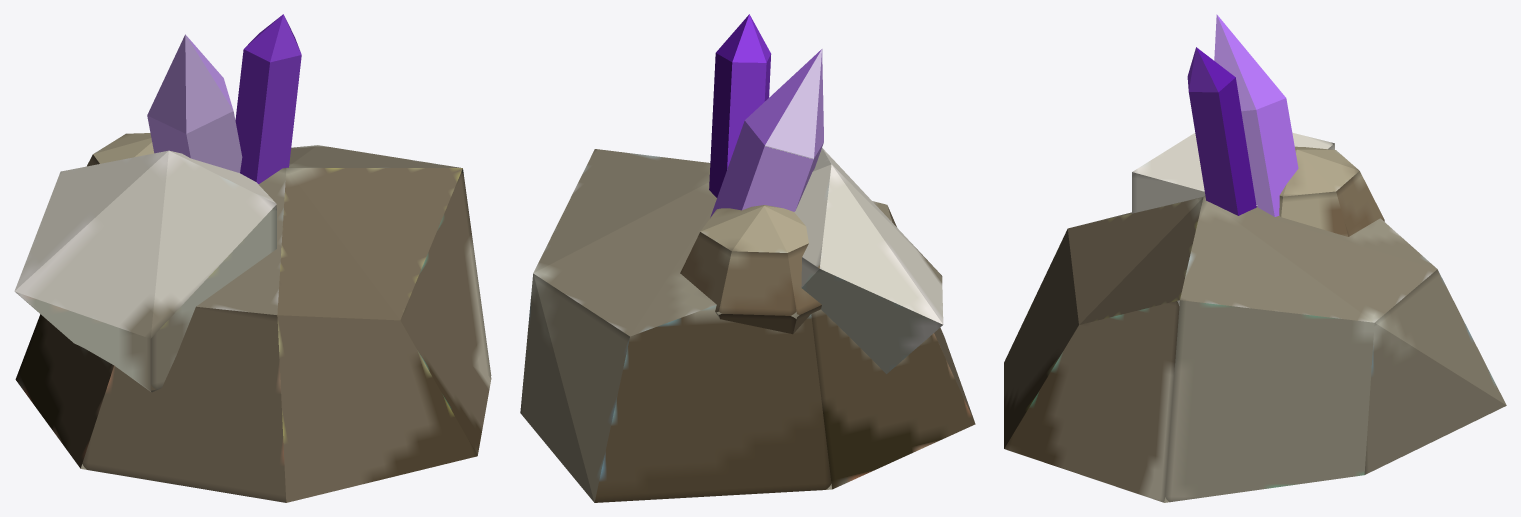
The model's file is rock.obj.
3 renders of one model, left to right at view 1: azimuth 30°, elevation 25°; view 2: azimuth 150°, elevation 25°; view 3: azimuth 270°, elevation 25°, orthographic. The views are drawn at different scales.
Parts seen in each view (by area): view 1: sphere, cristal, cristal2; view 2: sphere, cristal2, cristal; view 3: sphere, cristal, cristal2.
Boxes of the visible parts, x1,y1,x2,y2 form: sphere: (14,133,491,502); cristal: (235,14,301,184); cristal2: (147,34,242,172); sphere: (520,148,975,502); cristal2: (710,49,823,217); cristal: (709,14,771,197); sphere: (1004,132,1506,502); cristal: (1187,47,1256,215); cristal2: (1214,14,1298,216).
Size of the model in its own units: 0.5374 by 0.4784 by 0.59.
2 materials, 2 textured.
